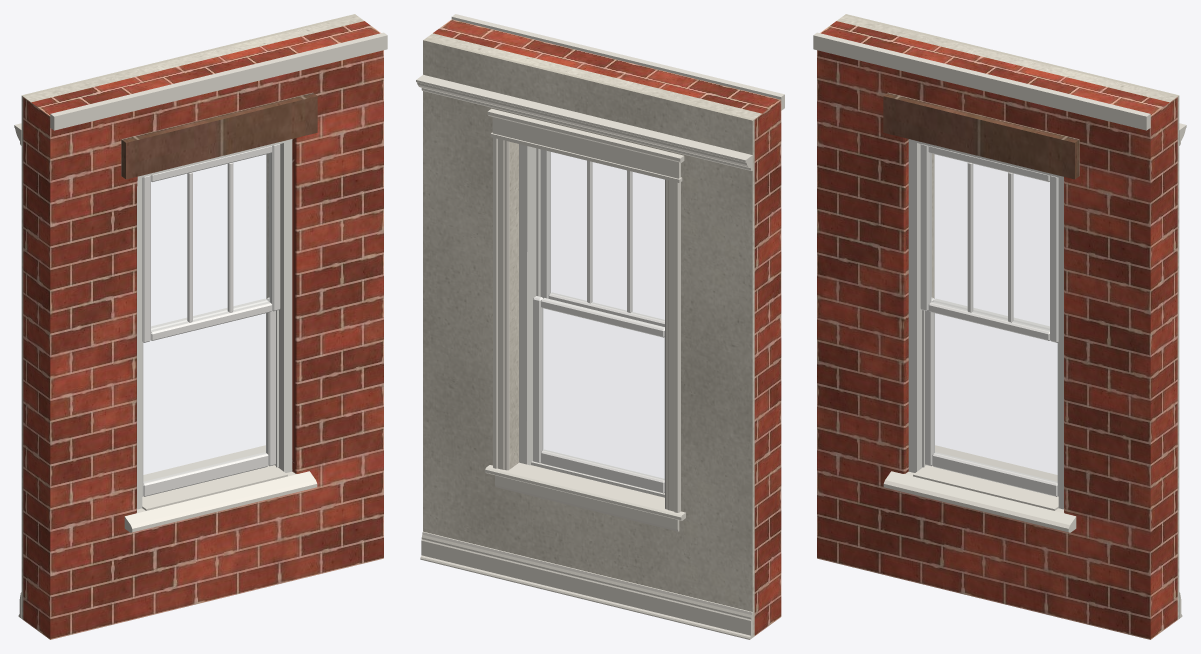
File: wall_brick_parlor_window.glb
The picture shows the model from 3 angles, left to right: view 1: azimuth 30°, elevation 25°; view 2: azimuth 150°, elevation 25°; view 3: azimuth 330°, elevation 25°; orthographic projection.
Visible parts, largest first — view 1: wall_brick_parlor_window_brick, folha_glass, wall_brick_parlor_window_glass, wall_brick_parlor_window_trim, wall_brick_parlor_window_stone, wall_brick_parlor_window_sash, wall_brick_parlor_window_frame, wall_brick_parlor_window_plaster, folha_sash, molduras; view 2: wall_brick_parlor_window_plaster, molduras, wall_brick_parlor_window_brick, folha_glass, wall_brick_parlor_window_glass, wall_brick_parlor_window_frame, folha_sash, wall_brick_parlor_window_sash, wall_brick_parlor_window_trim; view 3: wall_brick_parlor_window_brick, folha_glass, wall_brick_parlor_window_glass, wall_brick_parlor_window_trim, wall_brick_parlor_window_stone, wall_brick_parlor_window_sash, wall_brick_parlor_window_frame, wall_brick_parlor_window_plaster, folha_sash, molduras.
Part boxes in pixels (x1,y1,x2,y2): wall_brick_parlor_window_brick: [23, 21, 383, 639]; folha_glass: [144, 314, 266, 482]; wall_brick_parlor_window_glass: [151, 154, 270, 330]; wall_brick_parlor_window_trim: [50, 32, 387, 532]; wall_brick_parlor_window_stone: [121, 92, 317, 179]; wall_brick_parlor_window_sash: [142, 144, 280, 342]; wall_brick_parlor_window_frame: [137, 139, 292, 509]; wall_brick_parlor_window_plaster: [21, 14, 363, 619]; folha_sash: [142, 297, 275, 496]; molduras: [14, 123, 267, 618]; wall_brick_parlor_window_plaster: [423, 33, 761, 637]; molduras: [416, 74, 752, 639]; wall_brick_parlor_window_brick: [433, 19, 781, 635]; folha_glass: [542, 309, 663, 479]; wall_brick_parlor_window_glass: [550, 152, 664, 320]; wall_brick_parlor_window_frame: [519, 144, 664, 497]; folha_sash: [533, 296, 664, 493]; wall_brick_parlor_window_sash: [540, 149, 664, 326]; wall_brick_parlor_window_trim: [451, 14, 784, 497]; wall_brick_parlor_window_brick: [817, 21, 1177, 639]; folha_glass: [934, 314, 1056, 482]; wall_brick_parlor_window_glass: [930, 154, 1049, 330]; wall_brick_parlor_window_trim: [813, 32, 1150, 532]; wall_brick_parlor_window_stone: [883, 92, 1079, 179]; wall_brick_parlor_window_sash: [920, 144, 1058, 342]; wall_brick_parlor_window_frame: [908, 139, 1063, 509]; wall_brick_parlor_window_plaster: [837, 14, 1179, 619]; folha_sash: [925, 297, 1058, 496]; molduras: [933, 123, 1186, 618].
Size of the model in its own units: 2 by 3.02 by 0.455.
7 materials, 3 textured.
